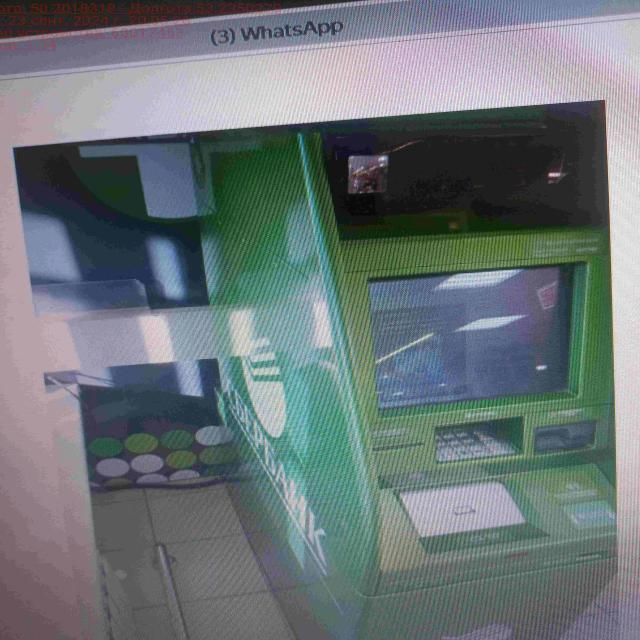bank: (191, 119, 636, 640)
